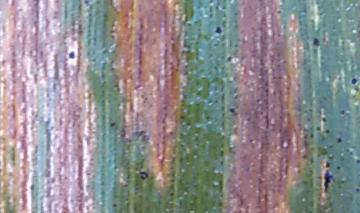tarspot: (321, 168, 334, 193), (136, 45, 144, 67), (310, 37, 322, 50), (66, 48, 77, 61), (69, 18, 77, 34), (137, 31, 145, 47), (213, 25, 224, 36), (263, 113, 270, 130), (107, 119, 118, 129), (138, 170, 149, 180), (119, 127, 128, 139), (349, 76, 359, 86), (136, 68, 143, 82), (224, 54, 234, 63), (77, 20, 83, 35), (274, 7, 283, 16), (137, 22, 146, 31), (337, 108, 345, 117), (227, 107, 237, 114), (133, 83, 143, 90), (137, 129, 145, 137), (323, 160, 330, 169), (335, 136, 342, 143), (111, 202, 118, 209), (315, 125, 322, 132), (178, 113, 185, 120), (301, 153, 308, 160), (321, 114, 327, 122), (308, 156, 314, 164), (354, 186, 360, 193), (355, 156, 360, 164), (335, 163, 341, 169), (325, 128, 331, 134), (185, 120, 191, 126), (309, 132, 314, 139)
